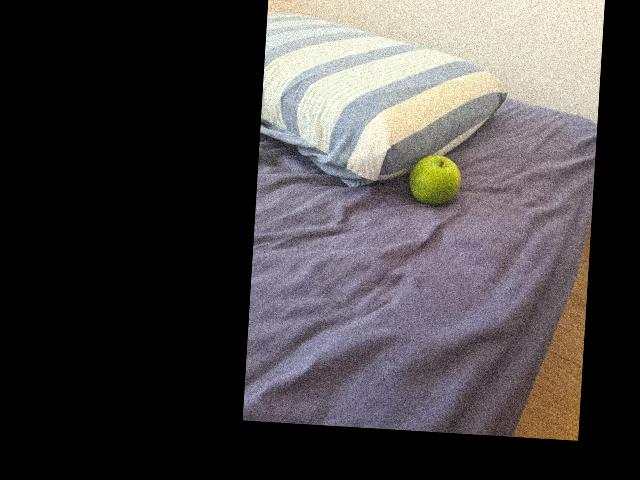apple: (409, 153, 459, 205)
